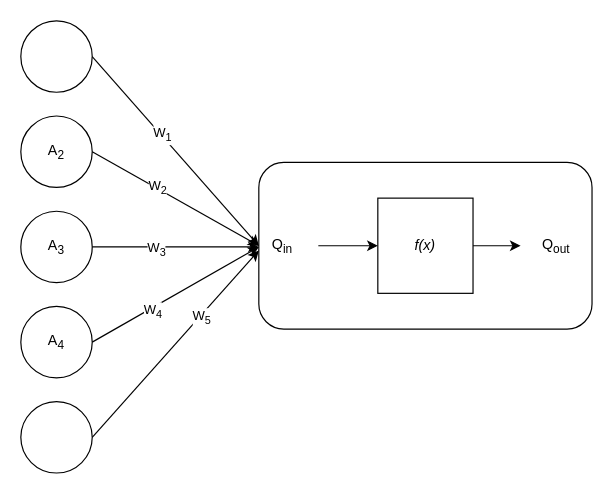
The diagram is 613 pixels wide and 494 high, and some of its shapes have lost their labels. The centre of each missing label's shape, as x and y in pixels:
"A 1" goes at point (56, 56).
"A 5" goes at point (56, 436).
